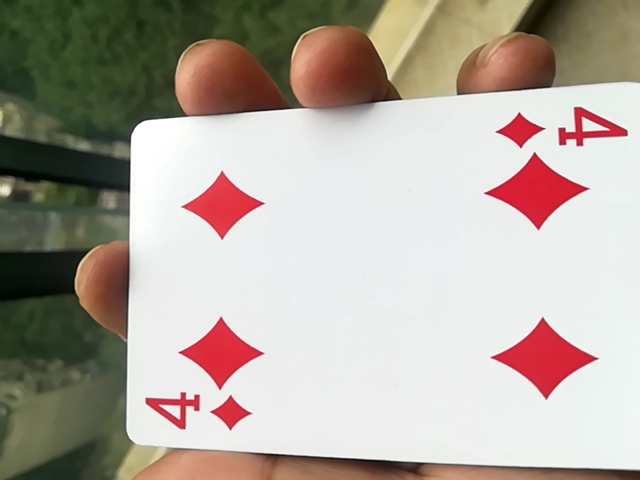fk 4: (110, 97, 638, 479)
